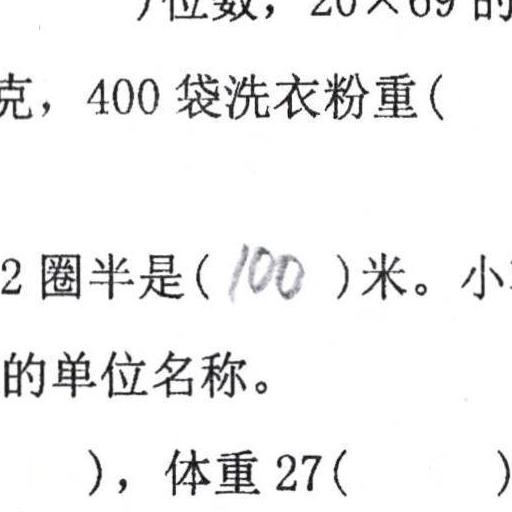ans: (225, 235, 305, 303)
